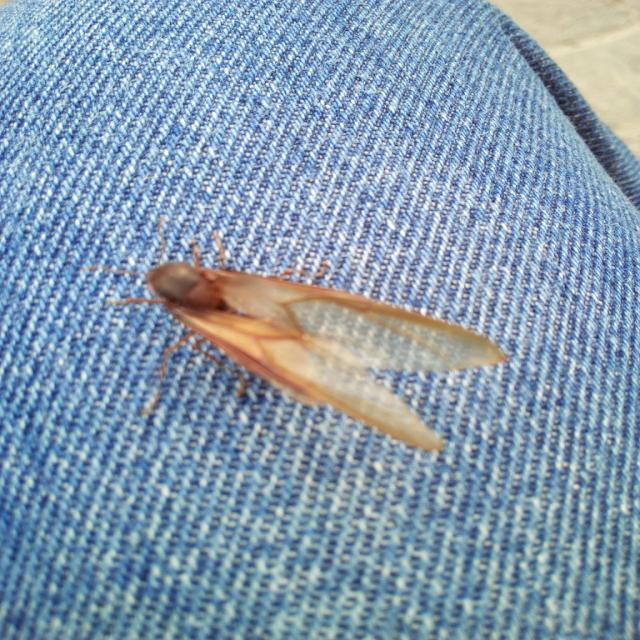Alive-Male-Alate: (82, 209, 507, 457)
